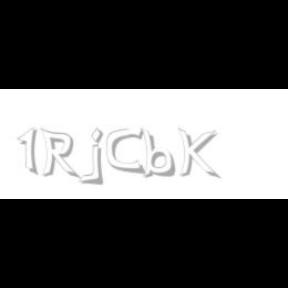1: (17, 128, 39, 176)
C: (106, 128, 144, 174)
K: (177, 128, 217, 180)
R: (40, 128, 78, 180)
b: (141, 128, 179, 178)
j: (88, 128, 118, 186)
